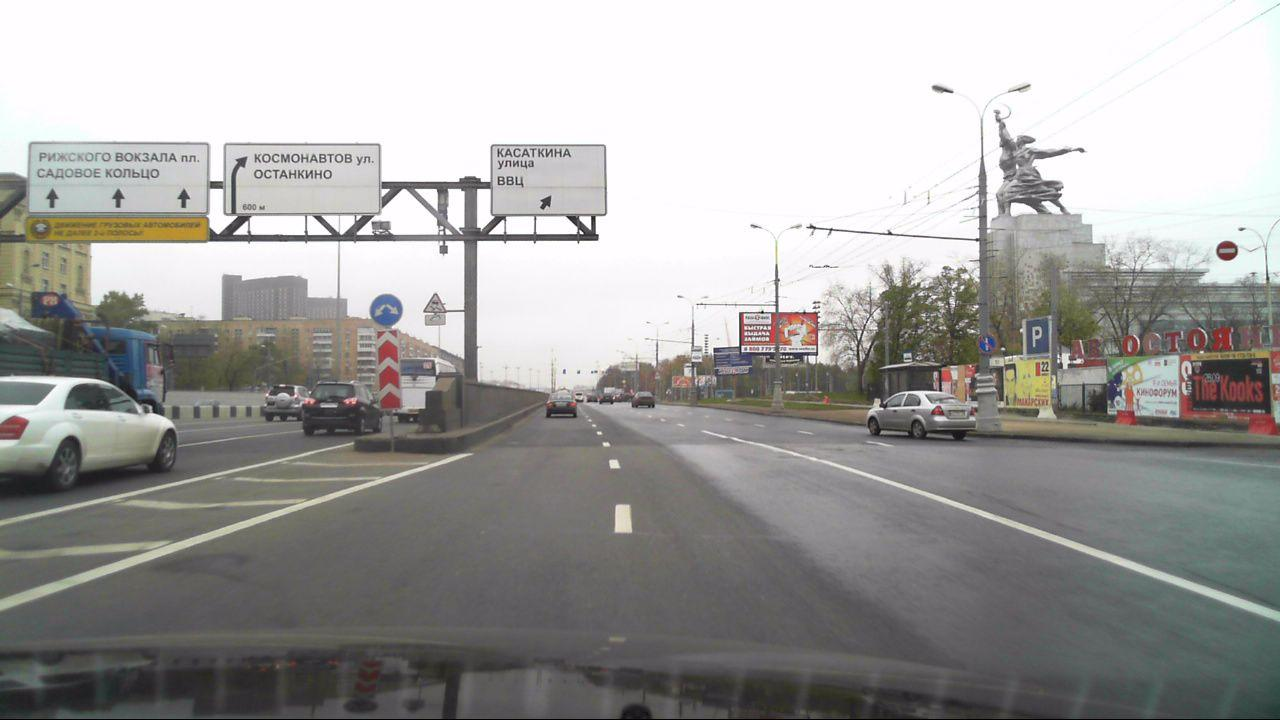1_15: (422, 292, 444, 312)
3_1: (1215, 241, 1238, 262)
3_29: (978, 334, 996, 352)
4_2_3: (371, 293, 404, 329)
5_16: (903, 349, 915, 366)
6_4: (1025, 320, 1049, 354)
6_9_1: (27, 139, 209, 215), (224, 141, 380, 216), (489, 141, 606, 217)
8_16: (423, 313, 448, 326)
8_22_3: (374, 330, 405, 413)
